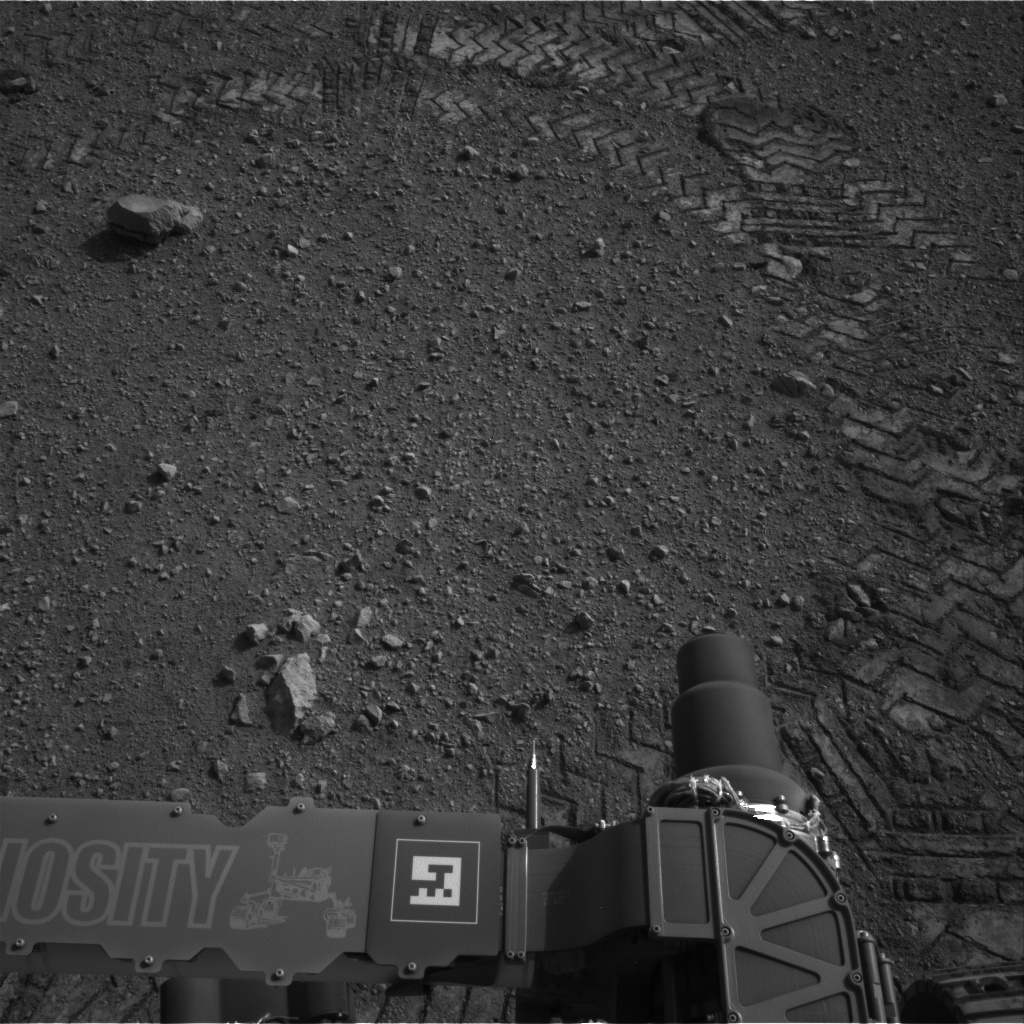soil: (5, 3, 1018, 927)
